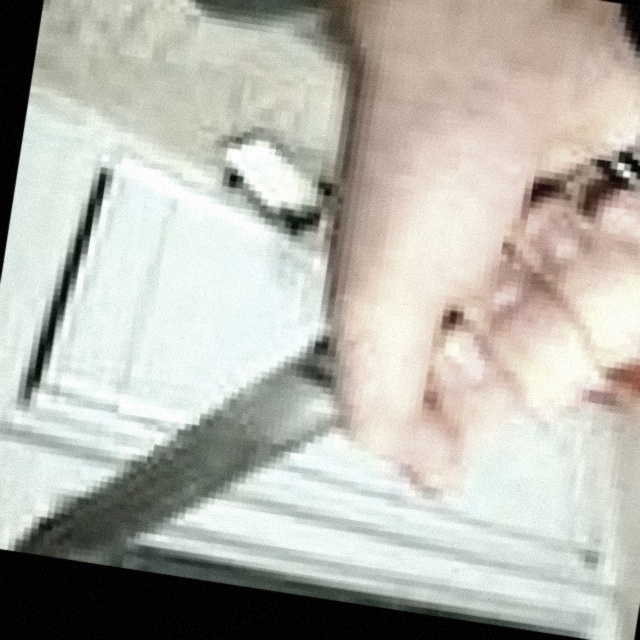Sharp-Object: (11, 13, 640, 640)
